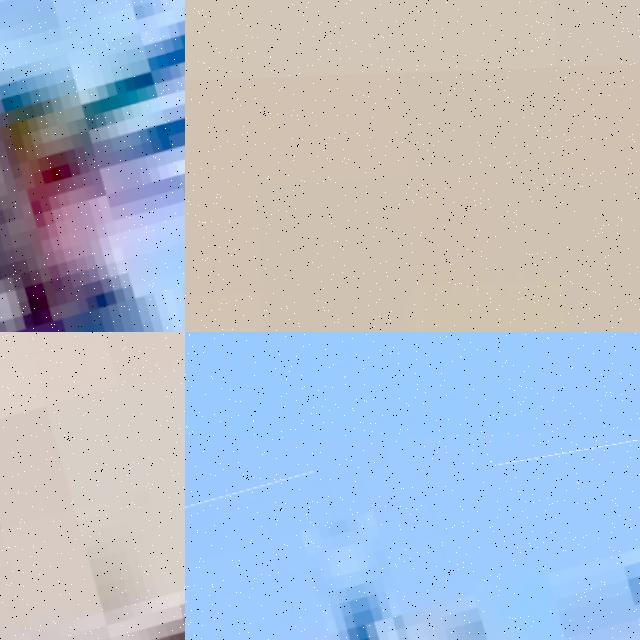drone: (185, 458, 640, 640), (0, 0, 185, 332), (0, 332, 185, 640)
